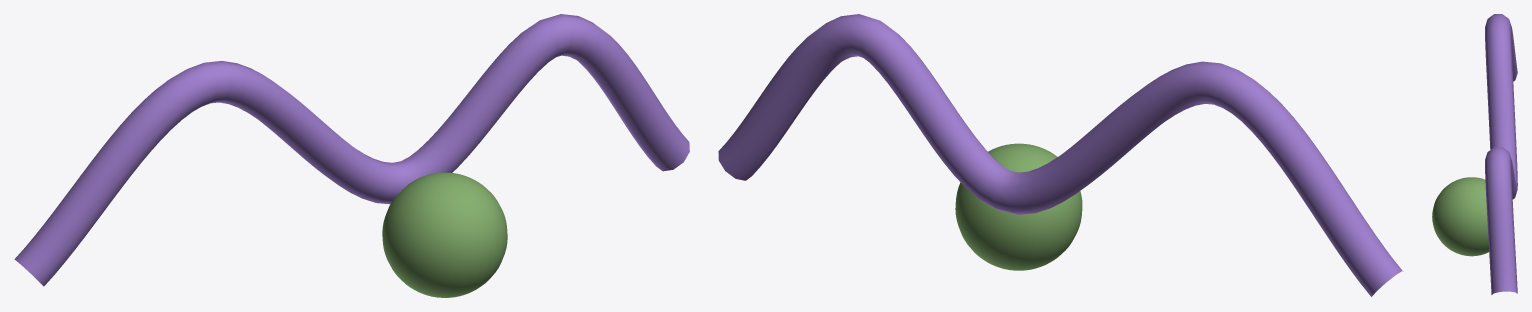
The model's file is biology-biochemistry-protein.glb.
3 views of the same model, side by side, from view 1: azimuth 30°, elevation 25°; view 2: azimuth 150°, elevation 25°; view 3: azimuth 270°, elevation 25° (orthographic). The views are drawn at different scales.
Visible parts, largest first — view 1: folded-amino-acid-chain, function-site-pocket; view 2: folded-amino-acid-chain, function-site-pocket; view 3: folded-amino-acid-chain, function-site-pocket.
Part boxes in pixels (x1,y1,x2,y2): folded-amino-acid-chain: (14, 14, 689, 286); function-site-pocket: (382, 172, 507, 297); folded-amino-acid-chain: (718, 14, 1403, 296); function-site-pocket: (955, 143, 1082, 270); folded-amino-acid-chain: (1485, 14, 1517, 294); function-site-pocket: (1432, 177, 1488, 256).
Size of what is drawn, in the model's own units: 1.47 by 0.5583 by 0.26.
